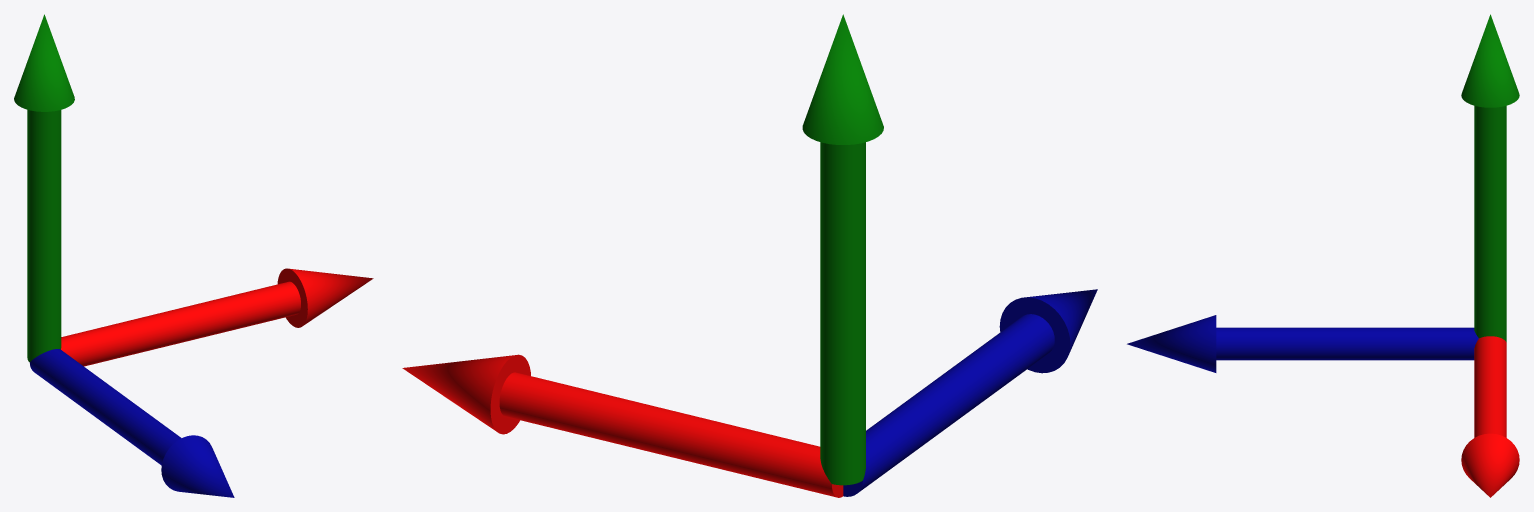
Rendered from axis.obj.
The picture shows the model from 3 angles, left to right: view 1: azimuth 30°, elevation 25°; view 2: azimuth 150°, elevation 25°; view 3: azimuth 270°, elevation 25°; orthographic projection. The views are drawn at different scales.
Parts seen in each view (by area): view 1: axis_Cylinder.002; view 2: axis_Cylinder.002; view 3: axis_Cylinder.002.
Boxes of the visible parts, x1,y1,x2,y2 form: axis_Cylinder.002: (14,14,373,497); axis_Cylinder.002: (402,14,1097,497); axis_Cylinder.002: (1127,14,1519,497).
Bounding box in the file's own units: 0.1434 × 0.1434 × 0.1434.
